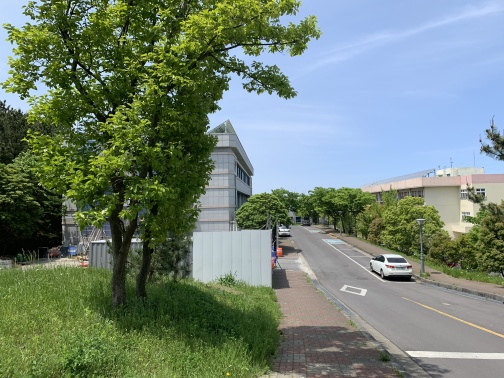College Of Education: (357, 155, 504, 234)
